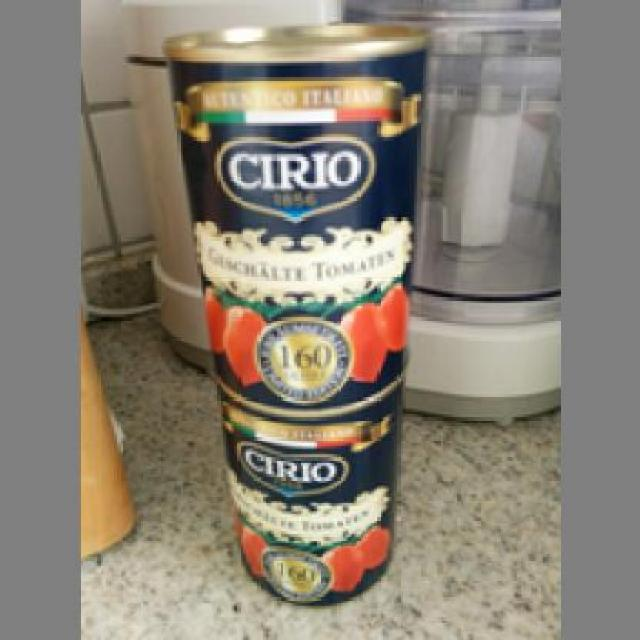Tomato Sauce: (160, 19, 426, 414), (211, 377, 406, 606)
